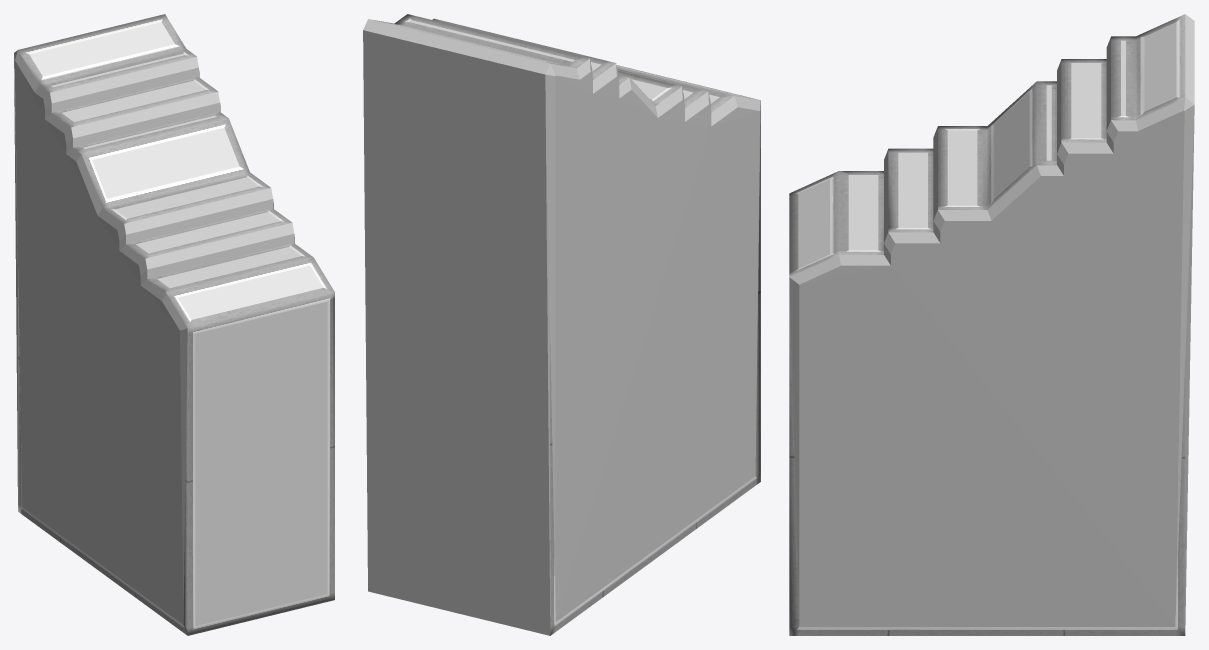
The model's file is s_gm_crawl_01.dae.
3 views of the same model, side by side, from view 1: azimuth 30°, elevation 25°; view 2: azimuth 150°, elevation 25°; view 3: azimuth 270°, elevation 25° (orthographic). The views are drawn at different scales.
Parts seen in each view (by area): view 1: Colmesh_crawl_01-1, crawl_01_a25, crawl_01_a200; view 2: Colmesh_crawl_01-1, crawl_01_a200, crawl_01_a25; view 3: Colmesh_crawl_01-1, crawl_01_a200, crawl_01_a25.
Boxes of the visible parts, x1,y1,x2,y2 form: Colmesh_crawl_01-1: (14,22,300,624); crawl_01_a25: (51,53,327,626); crawl_01_a200: (18,14,334,635); Colmesh_crawl_01-1: (363,19,760,635); crawl_01_a200: (368,14,760,635); crawl_01_a25: (409,20,745,103); Colmesh_crawl_01-1: (789,14,1194,626); crawl_01_a200: (789,14,1185,635); crawl_01_a25: (798,40,1125,268).
Size of the model in its own units: 2.1 by 4.1 by 6.
